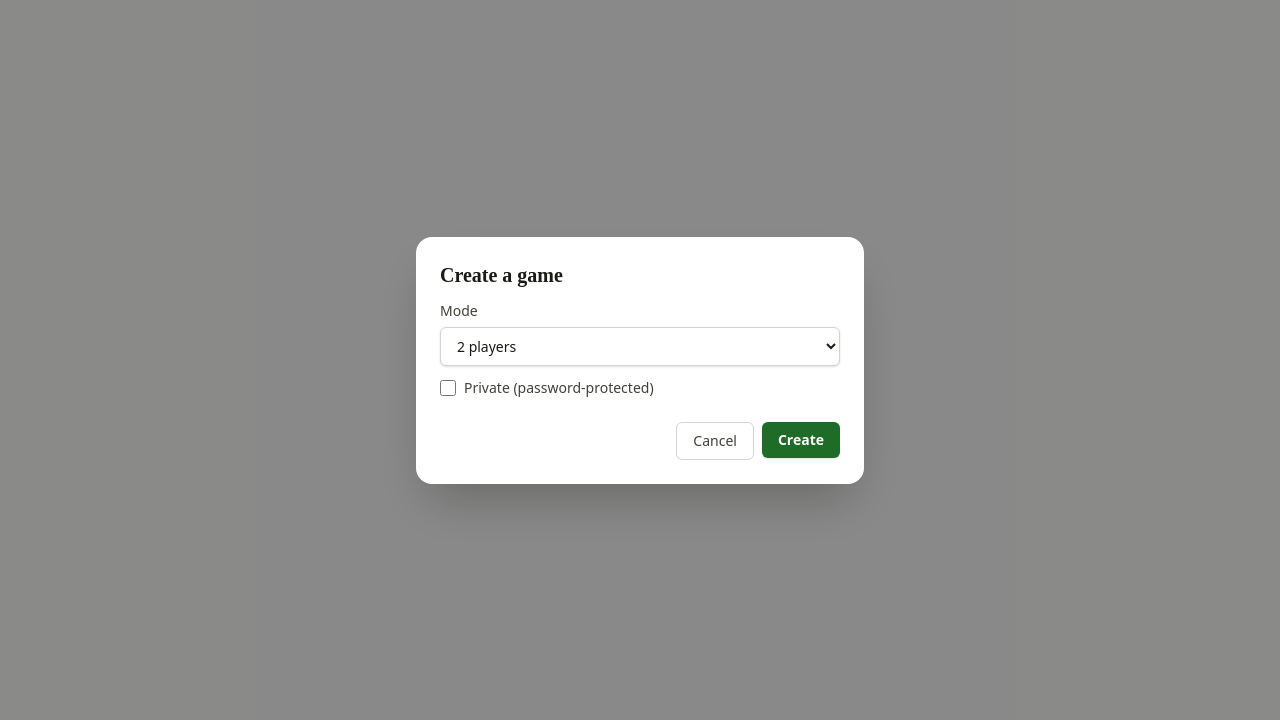
Test: CreateGameDialogComponent › hides the password field when isPrivate is off and shows it when on
Click the checkbox with test id "create-isPrivate" at (448, 388), box [440,380,456,396]
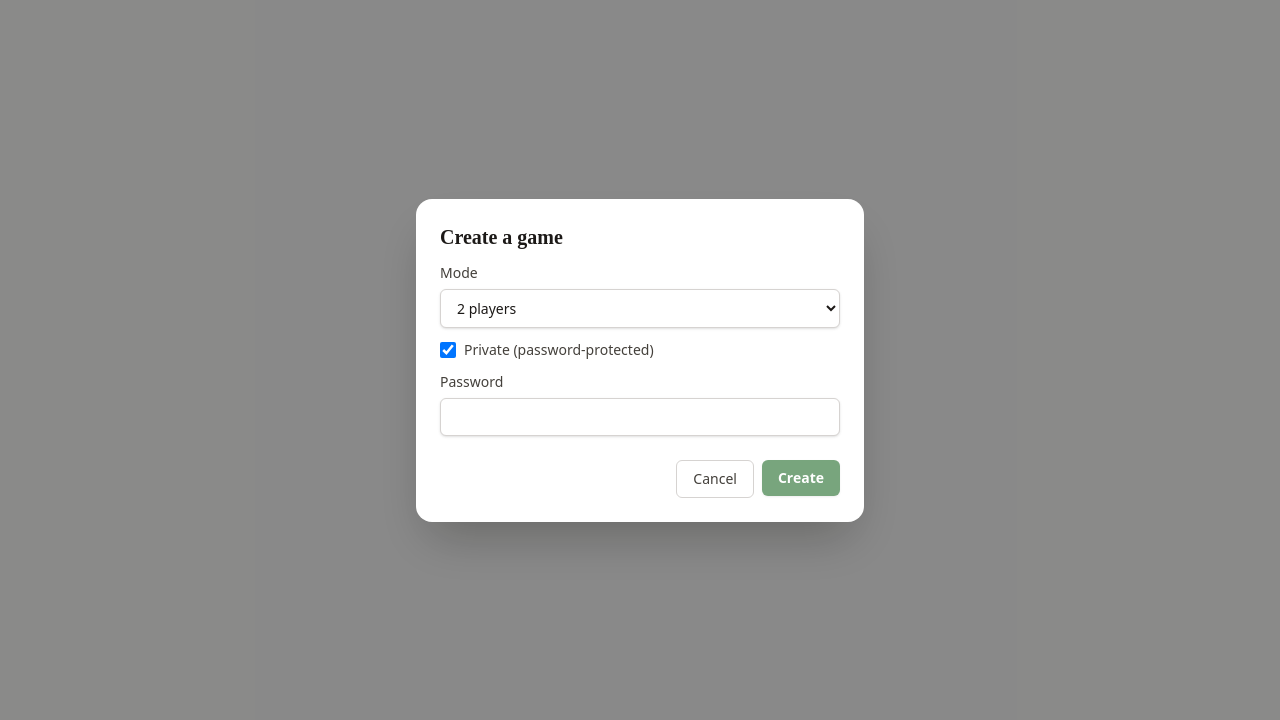
Check: the password field with test id "create-password" is shown, box [440,398,840,436]
